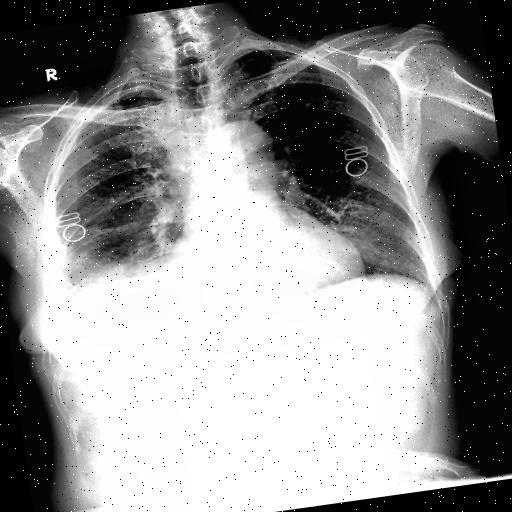0- Aortic enlargement: (198, 114, 283, 198), (207, 113, 277, 172)
10- Pleural effusion: (33, 204, 221, 370), (40, 264, 186, 370)
11- Pleural thickening: (54, 70, 178, 158), (60, 70, 174, 126)
3- Cardiomegaly: (156, 226, 370, 313)
6- Infiltration: (62, 222, 186, 299)
7- Lung Opacity: (48, 210, 192, 320), (46, 227, 184, 297), (62, 222, 186, 299), (60, 70, 174, 126), (88, 74, 158, 114)
